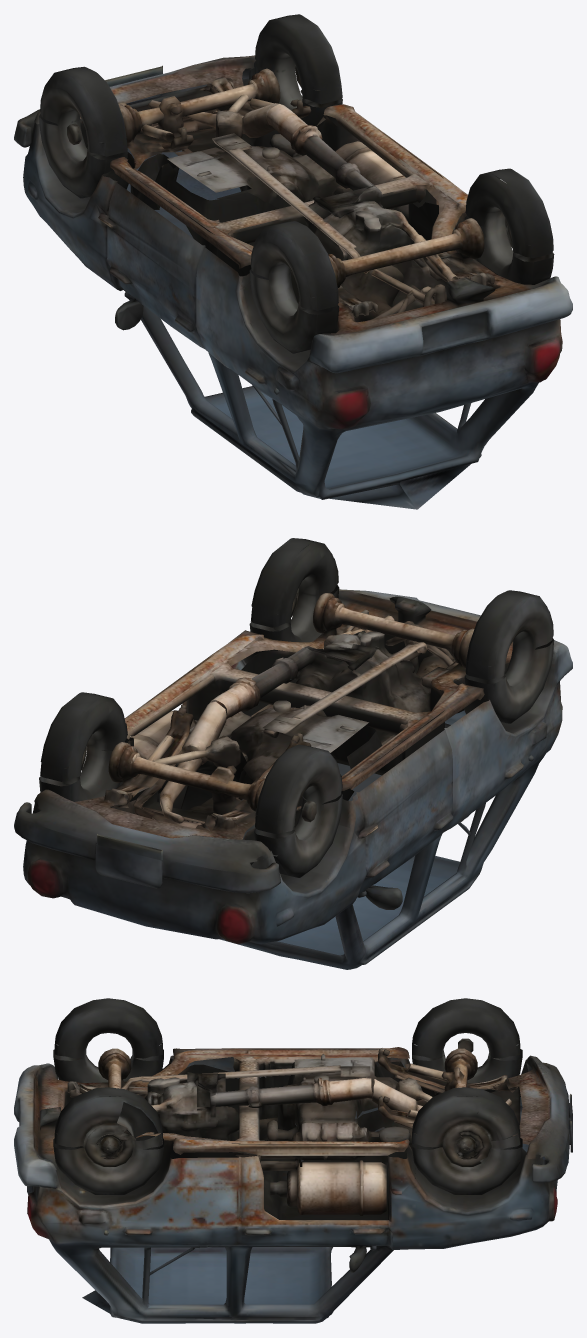
Rendered from wrecked_sedan_flipped_01_q3.fbx.
3 renders of one model, top to bottom at view 1: azimuth 30°, elevation 25°; view 2: azimuth 150°, elevation 25°; view 3: azimuth 270°, elevation 25°, orthographic. The views are drawn at different scales.
Parts seen in each view (by area): view 1: tripo_node_7dd1335a; view 2: tripo_node_7dd1335a; view 3: tripo_node_7dd1335a.
Boxes of the visible parts, <box> form: tripo_node_7dd1335a: <box>14,14,572,509</box>; tripo_node_7dd1335a: <box>14,538,572,969</box>; tripo_node_7dd1335a: <box>14,998,572,1323</box>.
Bounding box in the file's own units: 0.499 × 0.4951 × 0.998.
1 material, 1 textured.
